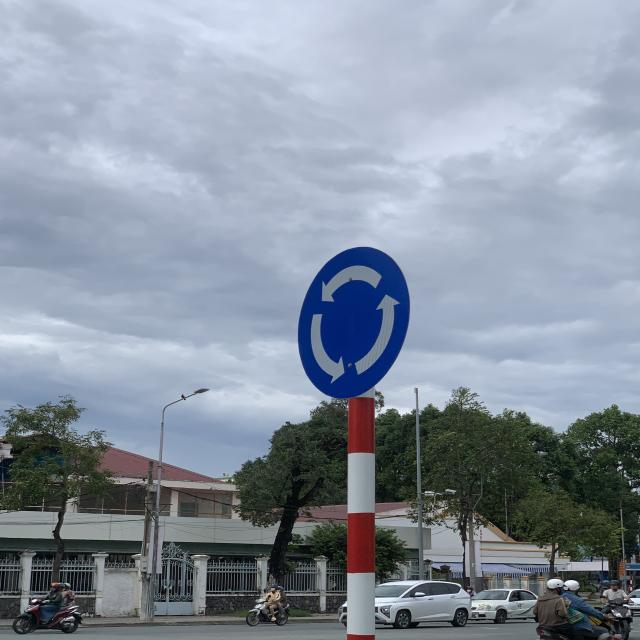Xe_Bus: (298, 246, 412, 403)
